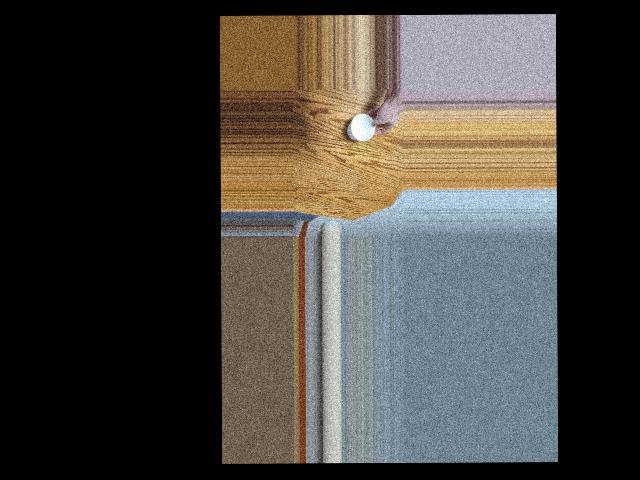cotage: (347, 108, 380, 145)
